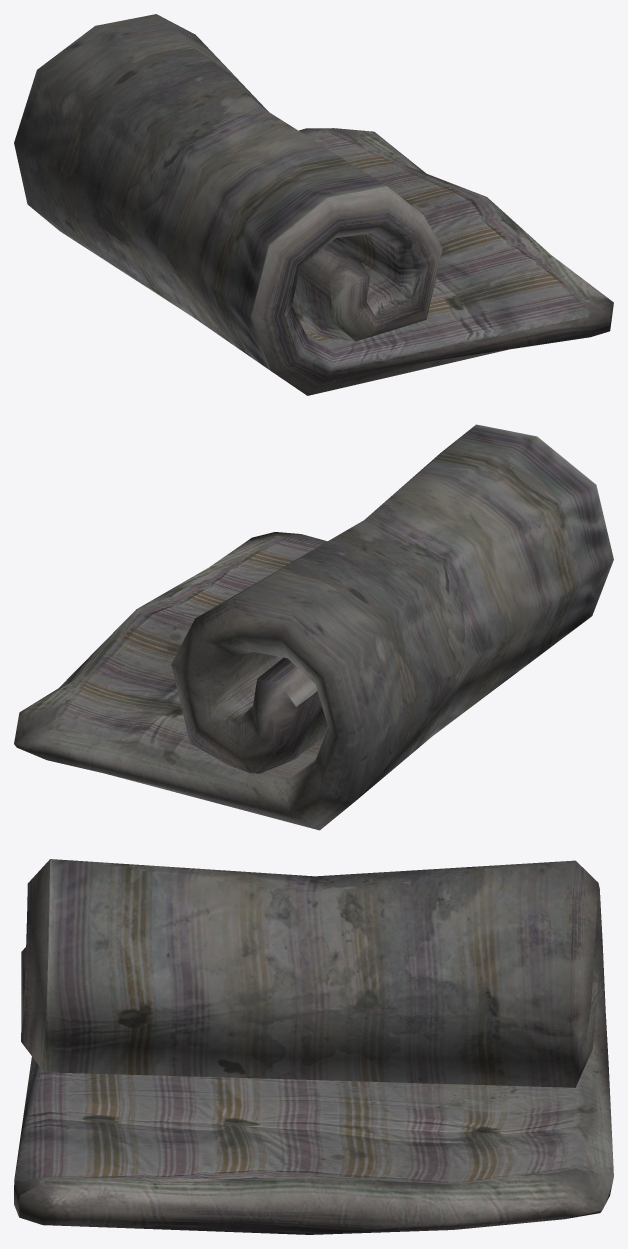
Rendered from mattress_02.FBX.
3 views of the same model, one above another, from view 1: azimuth 30°, elevation 25°; view 2: azimuth 150°, elevation 25°; view 3: azimuth 270°, elevation 25° (orthographic). The views are drawn at different scales.
Visible parts, largest first — view 1: mattres_s; view 2: mattres_s; view 3: mattres_s.
Boxes of the visible parts, box(x1,y1,x2,y2) form: mattres_s: box(14, 14, 613, 395); mattres_s: box(14, 424, 613, 830); mattres_s: box(14, 859, 613, 1234).
Bounding box in the file's own units: 0.876 × 0.4604 × 1.1.
